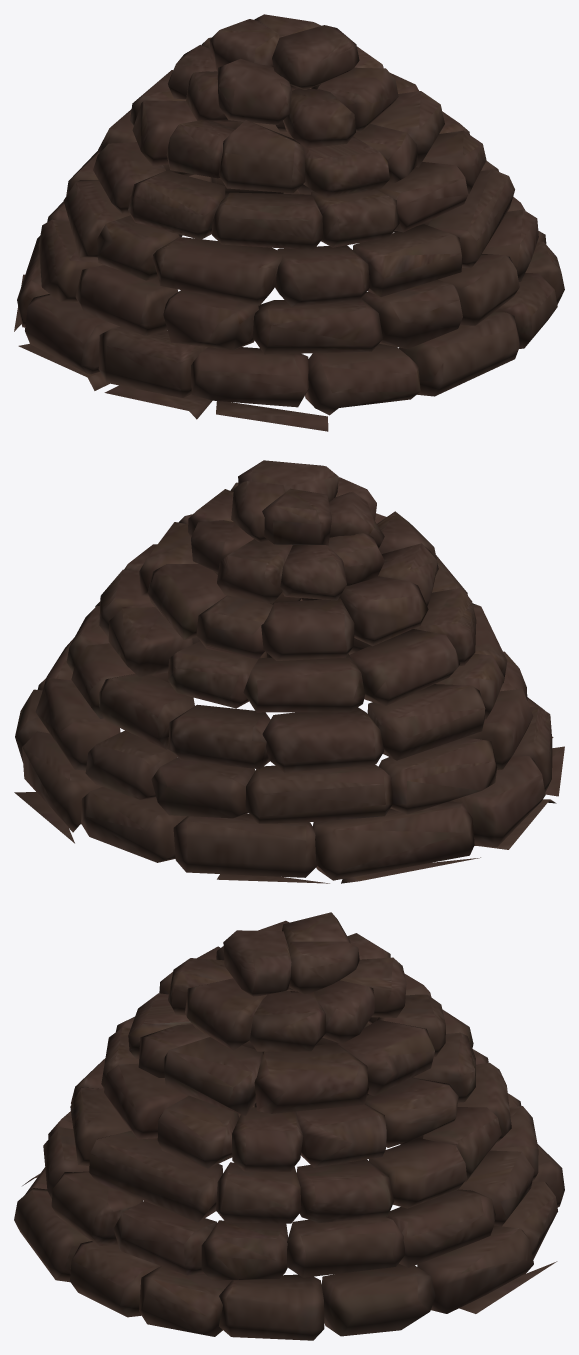
The model's file is rl_isle_peat.glb.
3 renders of one model, top to bottom at view 1: azimuth 30°, elevation 25°; view 2: azimuth 150°, elevation 25°; view 3: azimuth 270°, elevation 25°, orthographic. The views are drawn at different scales.
Parts seen in each view (by area): view 1: kit-peat-stack-1; view 2: kit-peat-stack-1; view 3: kit-peat-stack-1.
Part boxes in pixels (x1=…): kit-peat-stack-1: x1=14, y1=14, x2=564, y2=431; kit-peat-stack-1: x1=14, y1=460, x2=564, y2=883; kit-peat-stack-1: x1=14, y1=912, x2=564, y2=1340.
Size of the model in its own units: 1.25 by 0.7205 by 1.2.
Materials: 1 (1 with a texture image).
